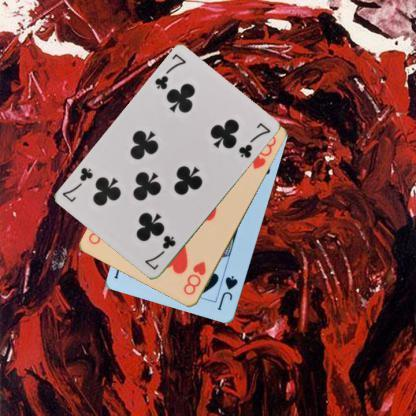7c: (142, 232, 178, 272), (152, 52, 187, 92)
8h: (180, 258, 208, 298)
Js: (214, 273, 239, 312)
